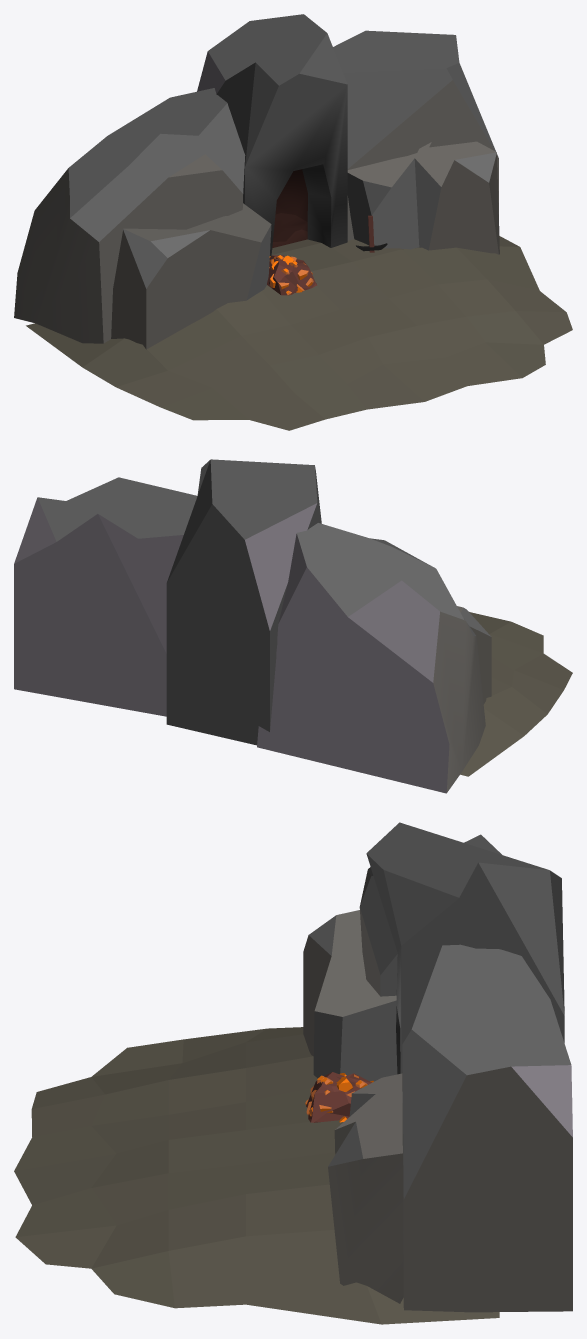
Rendered from iron_mine_Low1.fbx.
The picture shows the model from 3 angles, top to bottom: view 1: azimuth 30°, elevation 25°; view 2: azimuth 150°, elevation 25°; view 3: azimuth 270°, elevation 25°; orthographic projection. The views are drawn at different scales.
Visible parts, largest first — view 1: rock, Plane, pile; view 2: rock, Plane; view 3: rock, Plane, pile.
Boxes of the visible parts, <box> form: rock: <box>14,14,499,349</box>; Plane: <box>26,236,572,430</box>; pile: <box>267,255,317,295</box>; rock: <box>14,459,491,793</box>; Plane: <box>460,612,572,776</box>; rock: <box>303,822,572,1312</box>; Plane: <box>14,1027,499,1324</box>; pile: <box>305,1072,373,1122</box>.
Size of the model in its own units: 918 by 500 by 723.
